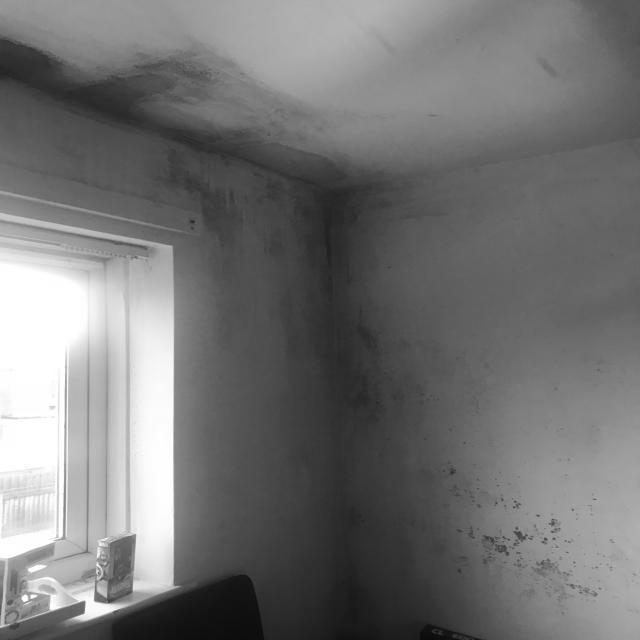stain marks: (0, 0, 640, 187), (251, 190, 640, 452), (409, 459, 640, 620), (160, 187, 252, 367), (322, 484, 388, 640)
